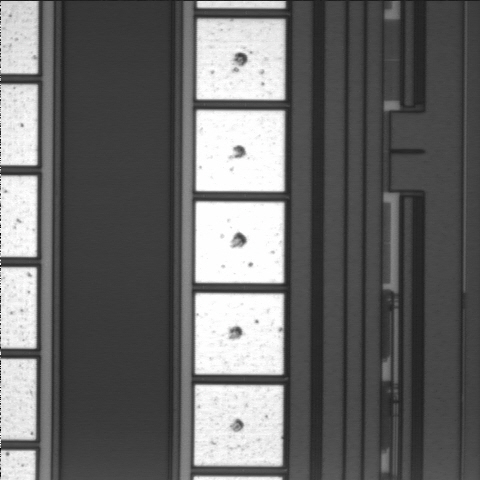pad: (196, 110, 285, 192), (195, 293, 284, 375), (195, 202, 284, 283), (194, 385, 283, 466), (197, 19, 285, 100)
